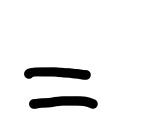eqv: (23, 67, 98, 109)
